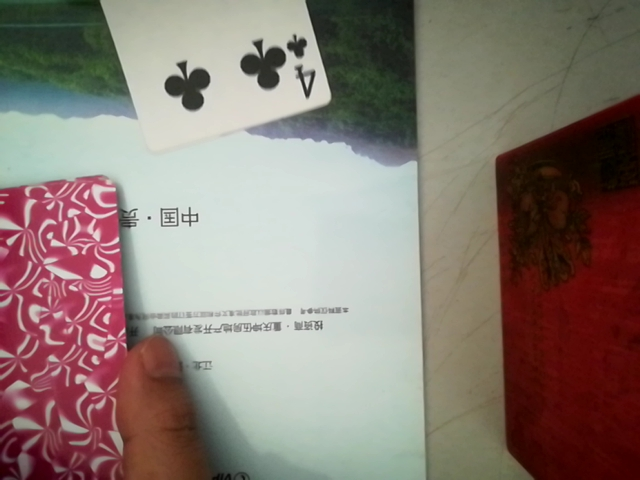mh 4: (96, 0, 327, 153)
